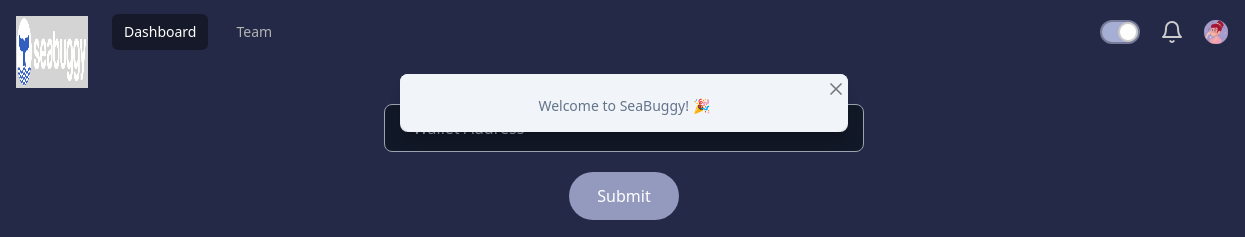
notifications › desktop notification › actions › dismisses the notification on click
Click the element with test id "notification": (624, 103) [400,74,848,132]
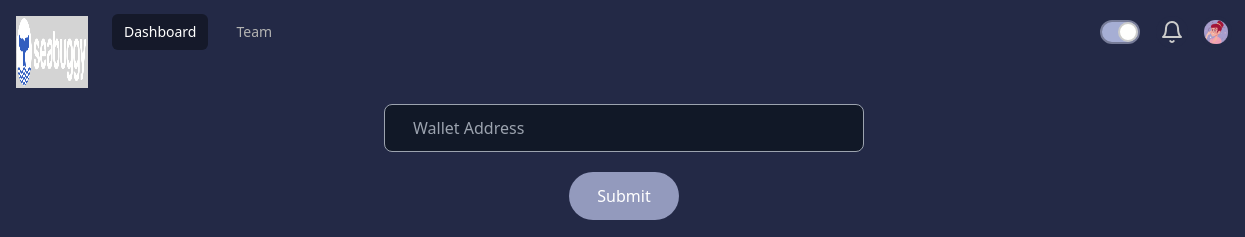
Now the element with test id "notification" is gone
